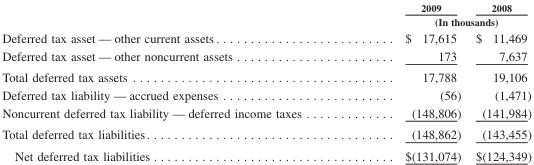table: (1, 1, 530, 162)
table column: (1, 1, 352, 162), (352, 1, 467, 162), (467, 1, 530, 162)
table column header: (1, 1, 530, 28)
table row: (1, 123, 530, 144), (1, 46, 530, 66), (1, 66, 530, 86), (1, 103, 530, 123), (1, 28, 530, 46), (1, 144, 530, 162), (1, 86, 530, 103), (1, 14, 530, 28), (1, 1, 530, 14)
table spanning cell: (352, 14, 530, 28)
